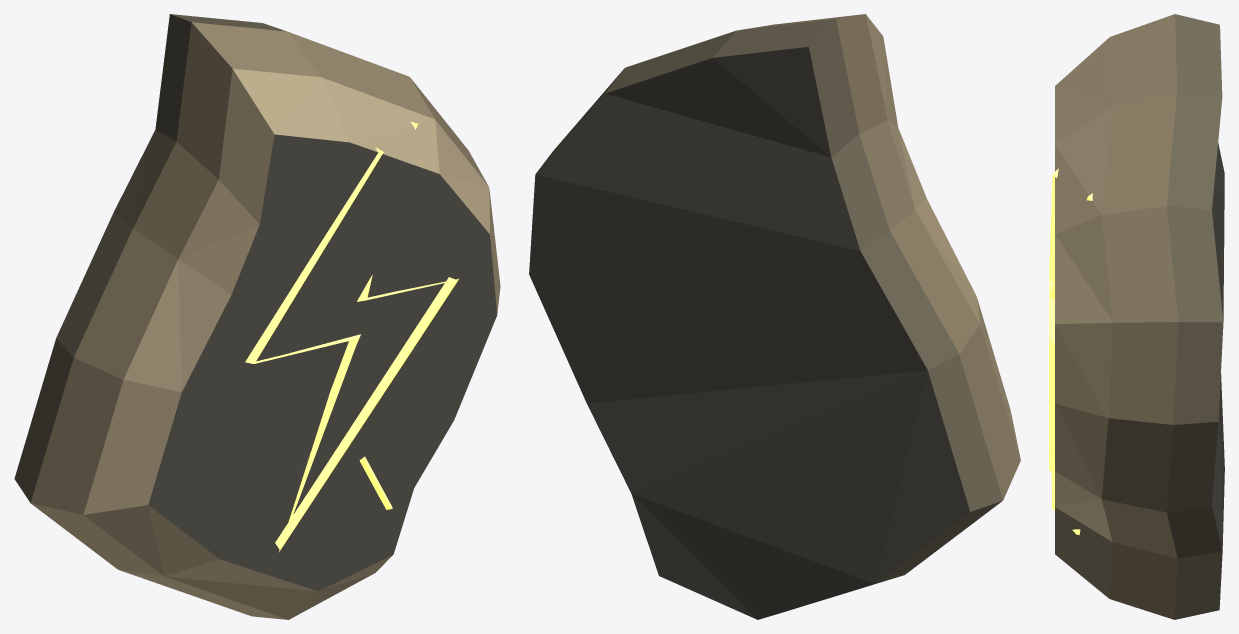
File: FERNSTONE_SPARK.lo.glb
The picture shows the model from 3 angles, left to right: view 1: azimuth 30°, elevation 25°; view 2: azimuth 150°, elevation 25°; view 3: azimuth 270°, elevation 25°; orthographic projection. The views are drawn at different scales.
Visible parts, largest first — view 1: Body_Mesh; view 2: Body_Mesh; view 3: Body_Mesh.
Boxes of the visible parts, x1,y1,x2,y2 form: Body_Mesh: (14,14,500,619); Body_Mesh: (529,14,1020,619); Body_Mesh: (1049,14,1224,619).
Size of the model in its own units: 0.2886 by 0.3697 by 0.1054.
1 material, 1 textured.
